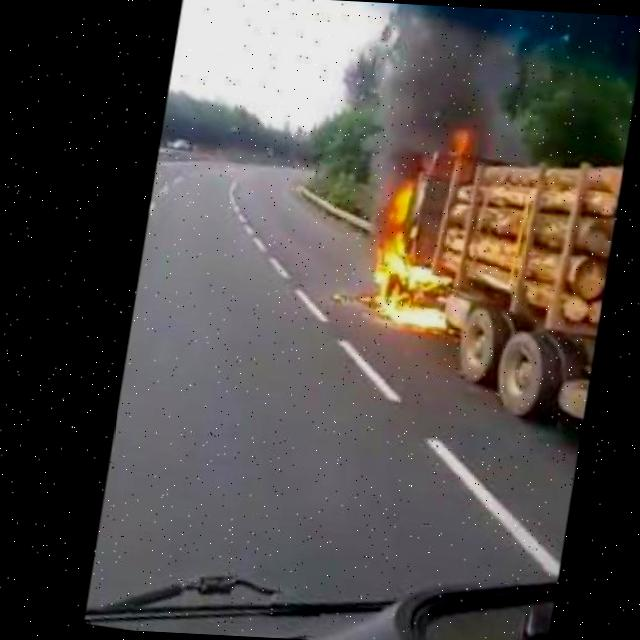fire: (347, 182, 465, 342), (444, 132, 471, 163)
